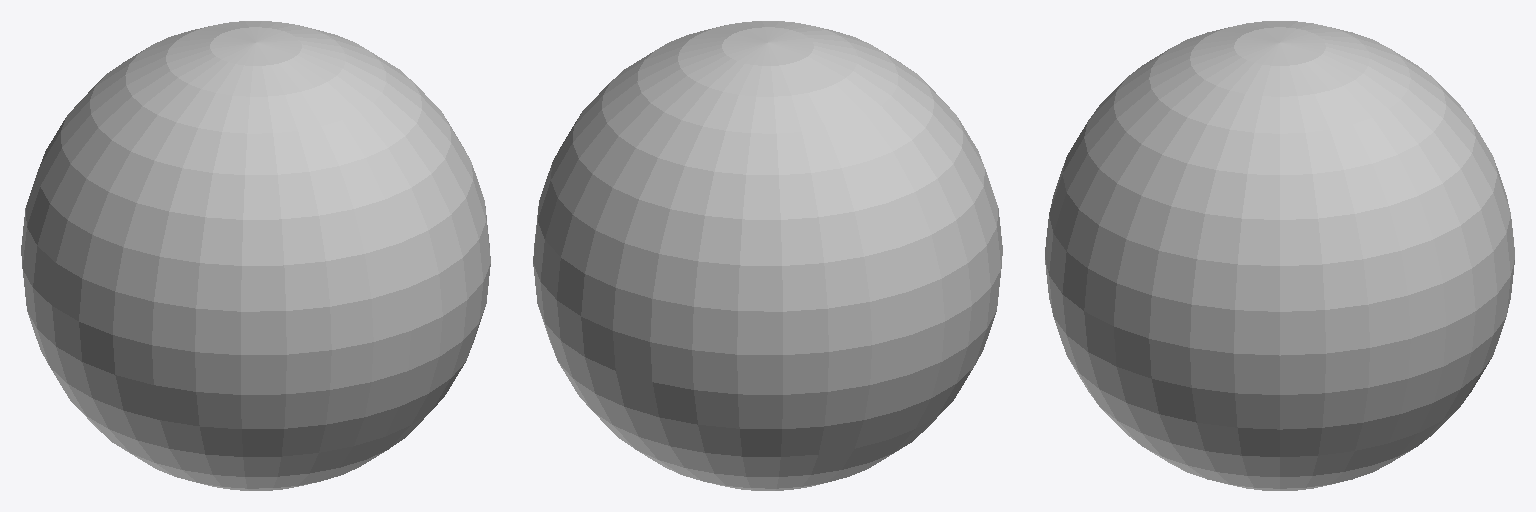
File: maar_bubble.obj
3 renders of one model, left to right at view 1: azimuth 30°, elevation 25°; view 2: azimuth 150°, elevation 25°; view 3: azimuth 270°, elevation 25°, orthographic.
Parts seen in each view (by area): view 1: Sphere; view 2: Sphere; view 3: Sphere.
Boxes of the visible parts, x1=… form: Sphere: x1=21, y1=21, x2=490, y2=490; Sphere: x1=533, y1=21, x2=1002, y2=490; Sphere: x1=1045, y1=21, x2=1514, y2=490.
Bounding box in the file's own units: 2 × 2 × 2.